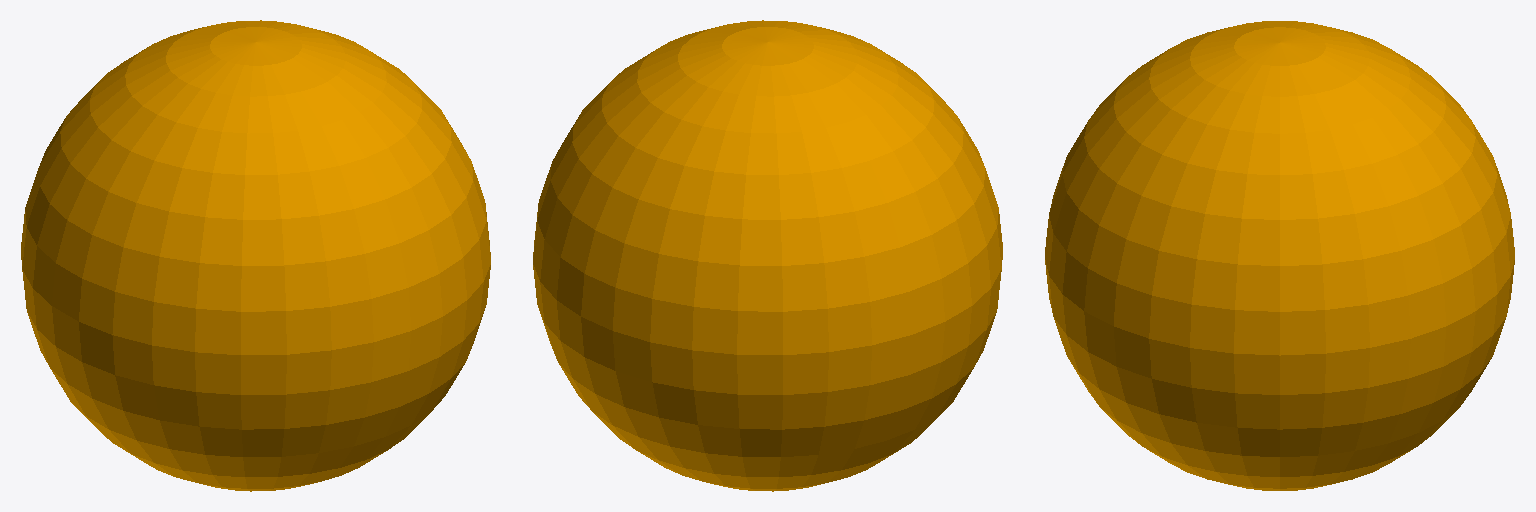
The robot description file, URDF, robot "panda":
<?xml version="1.0" ?>
<!-- =================================================================================== -->
<!-- |    This document was autogenerated by xacro from panda_arm_hand.urdf.xacro      | -->
<!-- |    EDITING THIS FILE BY HAND IS NOT RECOMMENDED                                 | -->
<!-- =================================================================================== -->
<robot name="panda" xmlns:xacro="http://www.ros.org/wiki/xacro">
  <link name="panda_link0">
  	<inertial>
      <origin rpy="0 0 0" xyz="0 0 0.05"/>
       <mass value="2.9"/>
       <inertia ixx="0.1" ixy="0" ixz="0" iyy="0.1" iyz="0" izz="0.1"/>
    </inertial>
    <visual>
      <geometry>
        <mesh filename="package://meshes/collision/link0.obj"/>
      </geometry>
      <material name="panda_white">
    		<color rgba="1. 1. 1. 1."/>
  		</material>
    </visual>
    <collision>
      <origin rpy="0 1.5707963267948966 0" xyz="-0.075 0 0.06"/>
      <geometry>
        <cylinder length="0.03" radius="0.06"/>
      </geometry>
    </collision>
    <collision>
      <origin rpy="0 0 0" xyz="-0.06 0 0.06"/>
      <geometry>
        <sphere radius="0.06"/>
      </geometry>
    </collision>
    <collision>
      <origin rpy="0 0 0" xyz="-0.09 0 0.06"/>
      <geometry>
        <sphere radius="0.06"/>
      </geometry>
    </collision>
  </link>
  <link name="panda_link1">
  	<inertial>
      <origin rpy="0 0 0" xyz="0 -0.04 -0.05"/>
       <mass value="2.7"/>
       <inertia ixx="0.1" ixy="0" ixz="0" iyy="0.1" iyz="0" izz="0.1"/>
    </inertial>
    <visual>
      <geometry>
        <mesh filename="package://meshes/visual/link1.obj"/>
      </geometry>
      <material name="panda_white"/>
    </visual>
    <collision>
      <origin rpy="0 0 0" xyz="0 0 -0.1915"/>
      <geometry>
        <cylinder length="0.2830" radius="0.06"/>
      </geometry>
    </collision>
    <collision>
      <origin rpy="0 0 0" xyz="0 0 -0.333"/>
      <geometry>
        <sphere radius="0.06"/>
      </geometry>
    </collision>
    <collision>
      <origin rpy="0 0 0" xyz="0 0 -0.05"/>
      <geometry>
        <sphere radius="0.06"/>
      </geometry>
    </collision>
  </link>
  <joint name="panda_joint1" type="revolute">
    <safety_controller k_position="100.0" k_velocity="40.0" soft_lower_limit="-2.8973" soft_upper_limit="2.8973"/>
    <origin rpy="0 0 0" xyz="0 0 0.333"/>
    <parent link="panda_link0"/>
    <child link="panda_link1"/>
    <axis xyz="0 0 1"/>
    <limit effort="87" lower="-2.9671" upper="2.9671" velocity="2.1750"/>
  </joint>
  <link name="panda_link2">
  	<inertial>
      <origin rpy="0 0 0" xyz="0 -0.04 0.06"/>
       <mass value="2.73"/>
       <inertia ixx="0.1" ixy="0" ixz="0" iyy="0.1" iyz="0" izz="0.1"/>
    </inertial>
    <visual>
      <geometry>
        <mesh filename="package://meshes/visual/link2.obj"/>
      </geometry>
      <material name="panda_white"/>
    </visual>
    <collision>
      <origin rpy="0 0 0" xyz="0 0 0"/>
      <geometry>
        <cylinder length="0.12" radius="0.06"/>
      </geometry>
    </collision>
    <collision>
      <origin rpy="0 0 0" xyz="0 0 -0.06"/>
      <geometry>
        <sphere radius="0.06"/>
      </geometry>
    </collision>
    <collision>
      <origin rpy="0 0 0" xyz="0 0 0.06"/>
      <geometry>
        <sphere radius="0.06"/>
      </geometry>
    </collision>
  </link>
  <joint name="panda_joint2" type="revolute">
    <safety_controller k_position="100.0" k_velocity="40.0" soft_lower_limit="-1.7628" soft_upper_limit="1.7628"/>
    <origin rpy="-1.57079632679 0 0" xyz="0 0 0"/>
    <parent link="panda_link1"/>
    <child link="panda_link2"/>
    <axis xyz="0 0 1"/>
    <limit effort="87" lower="-1.8326" upper="1.8326" velocity="2.1750"/>
  </joint>
  <link name="panda_link3">
	  <inertial>
      <origin rpy="0 0 0" xyz="0.01 0.01 -0.05"/>
       <mass value="2.04"/>
       <inertia ixx="0.1" ixy="0" ixz="0" iyy="0.1" iyz="0" izz="0.1"/>
    </inertial>
    <visual>
      <geometry>
        <mesh filename="package://meshes/visual/link3.obj"/>
      </geometry>
      <material name="panda_red">
    		<color rgba="1. 1. 1. 1."/>
  		</material>
    </visual>
    <collision>
      <origin rpy="0 0 0" xyz="0 0 -0.145"/>
      <geometry>
        <cylinder length="0.15" radius="0.06"/>
      </geometry>
    </collision>
    <collision>
      <origin rpy="0 0 0" xyz="0 0 -0.22"/>
      <geometry>
        <sphere radius="0.06"/>
      </geometry>
    </collision>
    <collision>
      <origin rpy="0 0 0" xyz="0 0 -0.07"/>
      <geometry>
        <sphere radius="0.06"/>
      </geometry>
    </collision>
  </link>
  <joint name="panda_joint3" type="revolute">
    <safety_controller k_position="100.0" k_velocity="40.0" soft_lower_limit="-2.8973" soft_upper_limit="2.8973"/>
    <origin rpy="1.57079632679 0 0" xyz="0 -0.316 0"/>
    <parent link="panda_link2"/>
    <child link="panda_link3"/>
    <axis xyz="0 0 1"/>
    <limit effort="87" lower="-2.9671" upper="2.9671" velocity="2.1750"/>
  </joint>
  <link name="panda_link4">
  	<inertial>
      <origin rpy="0 0 0" xyz="-0.03 0.03 0.02"/>
       <mass value="2.08"/>
       <inertia ixx="0.1" ixy="0" ixz="0" iyy="0.1" iyz="0" izz="0.1"/>
    </inertial>
    <visual>
      <geometry>
        <mesh filename="package://meshes/visual/link4.obj"/>
      </geometry>
      <material name="panda_white"/>
    </visual>
    <collision>
      <origin rpy="0 0 0" xyz="0 0 0"/>
      <geometry>
        <cylinder length="0.12" radius="0.06"/>
      </geometry>
    </collision>
    <collision>
      <origin rpy="0 0 0" xyz="0 0 0.06"/>
      <geometry>
        <sphere radius="0.06"/>
      </geometry>
    </collision>
    <collision>
      <origin rpy="0 0 0" xyz="0 0 -0.06"/>
      <geometry>
        <sphere radius="0.06"/>
      </geometry>
    </collision>
  </link>
  <joint name="panda_joint4" type="revolute">
    <safety_controller k_position="100.0" k_velocity="40.0" soft_lower_limit="-3.0718" soft_upper_limit="-0.0698"/>
    <origin rpy="1.57079632679 0 0" xyz="0.0825 0 0"/>
    <parent link="panda_link3"/>
    <child link="panda_link4"/>
    <axis xyz="0 0 1"/>
    <limit effort="87" lower="-3.1416" upper="0.0" velocity="2.1750"/>
  </joint>
  <link name="panda_link5">
  	<inertial>
      <origin rpy="0 0 0" xyz="0 0.04 -0.12"/>
       <mass value="3"/>
       <inertia ixx="0.1" ixy="0" ixz="0" iyy="0.1" iyz="0" izz="0.1"/>
    </inertial>
    <visual>
      <geometry>
        <mesh filename="package://meshes/visual/link5.obj"/>
      </geometry>
      <material name="panda_white"/>
    </visual>
    <collision>
      <origin rpy="0 0 0" xyz="0 0 -0.26"/>
      <geometry>
        <cylinder length="0.1" radius="0.06"/>
      </geometry>
    </collision>
    <collision>
      <origin rpy="0 0 0" xyz="0 0 -0.31"/>
      <geometry>
        <sphere radius="0.06"/>
      </geometry>
    </collision>
    <collision>
      <origin rpy="0 0 0" xyz="0 0 -0.21"/>
      <geometry>
        <sphere radius="0.06"/>
      </geometry>
    </collision>
    <collision>
      <origin rpy="0 0 0" xyz="0 0.08 -0.13"/>
      <geometry>
        <cylinder length="0.14" radius="0.025"/>
      </geometry>
    </collision>
    <collision>
      <origin rpy="0 0 0" xyz="0 0.08 -0.06"/>
      <geometry>
        <sphere radius="0.025"/>
      </geometry>
    </collision>
    <collision>
      <origin rpy="0 0 0" xyz="0 0.08 -0.20"/>
      <geometry>
        <sphere radius="0.025"/>
      </geometry>
    </collision>
  </link>
  <joint name="panda_joint5" type="revolute">
    <safety_controller k_position="100.0" k_velocity="40.0" soft_lower_limit="-2.8973" soft_upper_limit="2.8973"/>
    <origin rpy="-1.57079632679 0 0" xyz="-0.0825 0.384 0"/>
    <parent link="panda_link4"/>
    <child link="panda_link5"/>
    <axis xyz="0 0 1"/>
    <limit effort="12" lower="-2.9671" upper="2.9671" velocity="2.6100"/>
  </joint>
  <link name="panda_link6">
  	<inertial>
      <origin rpy="0 0 0" xyz="0.04 0 0"/>
       <mass value="1.3"/>
       <inertia ixx="0.1" ixy="0" ixz="0" iyy="0.1" iyz="0" izz="0.1"/>
    </inertial>
    <visual>
      <geometry>
        <mesh filename="package://meshes/visual/link6.obj"/>
      </geometry>
      <material name="panda_white"/>
    </visual>
    <collision>
      <origin rpy="0 0 0" xyz="0 0 -0.03"/>
      <geometry>
        <cylinder length="0.08" radius="0.05"/>
      </geometry>
    </collision>
    <collision>
      <origin rpy="0 0 0" xyz="0 0 0.01"/>
      <geometry>
        <sphere radius="0.05"/>
      </geometry>
    </collision>
    <collision>
      <origin rpy="0 0 0" xyz="0 0 -0.07"/>
      <geometry>
        <sphere radius="0.05"/>
      </geometry>
    </collision>
  </link>
  <joint name="panda_joint6" type="revolute">
    <safety_controller k_position="100.0" k_velocity="40.0" soft_lower_limit="-0.0175" soft_upper_limit="3.7525"/>
    <origin rpy="1.57079632679 0 0" xyz="0 0 0"/>
    <parent link="panda_link5"/>
    <child link="panda_link6"/>
    <axis xyz="0 0 1"/>
    <limit effort="12" lower="-0.0873" upper="3.8223" velocity="2.6100"/>
  </joint>
  <link name="panda_link7">
  	<inertial>
      <origin rpy="0 0 0" xyz="0 0 0.08"/>
       <mass value=".2"/>
       <inertia ixx="0.1" ixy="0" ixz="0" iyy="0.1" iyz="0" izz="0.1"/>
    </inertial>
    <visual>
      <geometry>
        <mesh filename="package://meshes/collision/link7.obj"/>
      </geometry>
      <material name="panda_white"/>
    </visual>
    <collision>
      <origin rpy="0 0 0" xyz="0 0 0.01"/>
      <geometry>
        <cylinder length="0.14" radius="0.04"/>
      </geometry>
    </collision>
    <collision>
      <origin rpy="0 0 0" xyz="0 0 0.08"/>
      <geometry>
        <sphere radius="0.025"/>
      </geometry>
    </collision>
    <collision>
      <origin rpy="0 0 0" xyz="0 0 -0.06"/>
      <geometry>
        <sphere radius="0.04"/>
      </geometry>
    </collision>
  </link>
  <joint name="panda_joint7" type="revolute">
    <safety_controller k_position="100.0" k_velocity="40.0" soft_lower_limit="-2.8973" soft_upper_limit="2.8973"/>
    <origin rpy="1.57079632679 0 0" xyz="0.088 0 0"/>
    <parent link="panda_link6"/>
    <child link="panda_link7"/>
    <axis xyz="0 0 1"/>
    <limit effort="12" lower="-2.9671" upper="2.9671" velocity="2.6100"/>
  </joint>
  <link name="panda_link8">
  <visual>
        <geometry>
        <sphere radius="0.03"/>
      </geometry>
  </visual>
  	 <inertial>
      <origin rpy="0 0 0" xyz="0 0 0"/>
       <mass value="0.0"/>
       <inertia ixx="0.1" ixy="0" ixz="0" iyy="0.1" iyz="0" izz="0.1"/>
    </inertial>
        <collision>
      <origin rpy="3.141592653589793 1.5707963267948966 1.5707963267948966" xyz="0.0424 0.0424 -0.0250"/>
      <geometry>
        <cylinder length="0.01" radius="0.03"/>
      </geometry>
    </collision>
    <collision>
      <origin rpy="0 0 0" xyz="0.0424 0.0424 -0.02"/>
      <geometry>
        <sphere radius="0.03"/>
      </geometry>
    </collision>
    <collision>
      <origin rpy="0 0 0" xyz="0.0424 0.0424 -0.03"/>
      <geometry>
        <sphere radius="0.03"/>
      </geometry>
    </collision>
  </link>
  <joint name="panda_joint8" type="fixed">
    <origin rpy="0 0 0" xyz="0 0 0.107"/>
    <parent link="panda_link7"/>
    <child link="panda_link8"/>
    <axis xyz="0 0 0"/>
  </joint>
  <joint name="panda_hand_joint" type="fixed">
    <parent link="panda_link8"/>
    <child link="panda_hand"/>
    <origin rpy="0 0 -0.785398163397" xyz="0 0 0"/>
  </joint>

  <link name="panda_hand">
    <inertial>
      <origin rpy="0 0 0" xyz="0 0 0.04"/>
      <mass value=".81"/>
      <inertia ixx="0.1" ixy="0" ixz="0" iyy="0.1" iyz="0" izz="0.1"/>
    </inertial>
    <visual>
      <geometry>
        <mesh filename="package://meshes/visual/hand.obj"/>
      </geometry>
      <material name="panda_white"/>
    </visual>
  </link>

  <material name="transparent">
    <color rgba="0 0 0 0"/>
  </material>

  <link name="panda_hand_collision_1">
    <inertial>
      <mass value="1e-6"/>
      <inertia ixx="1e-9" ixy="0" ixz="0" iyy="1e-9" iyz="0" izz="1e-9"/>
    </inertial>
    <visual>
      <geometry>
        <sphere radius="0.0001"/>
      </geometry>
      <material name="transparent"/>
    </visual>
    <collision>
      <origin rpy="0 1.5707963267948966 1.5707963267948966" xyz="0 0 0.04"/>
      <geometry>
        <cylinder length="0.1" radius="0.04"/>
      </geometry>
    </collision>
  </link>

  <link name="panda_hand_collision_2">
    <inertial>
      <mass value="1e-6"/>
      <inertia ixx="1e-9" ixy="0" ixz="0" iyy="1e-9" iyz="0" izz="1e-9"/>
    </inertial>
    <visual>
      <geometry>
        <box size="0.0001 0.0001 0.0001"/>
      </geometry>
      <material name="transparent"/>
    </visual>
    <collision>
      <origin rpy="0 0 0" xyz="0 -0.05 0.04"/>
      <geometry>
        <sphere radius="0.04"/>
      </geometry>
    </collision>
  </link>

  <link name="panda_hand_collision_3">
    <inertial>
      <mass value="1e-6"/>
      <inertia ixx="1e-9" ixy="0" ixz="0" iyy="1e-9" iyz="0" izz="1e-9"/>
    </inertial>
    <visual>
      <geometry>
        <cylinder radius="0.0001" length="0.0001"/>
      </geometry>
      <material name="transparent"/>
    </visual>
    <collision>
      <origin rpy="0 0 0" xyz="0 0.05 0.04"/>
      <geometry>
        <sphere radius="0.04"/>
      </geometry>
    </collision>
  </link>

  <link name="panda_hand_collision_4">
    <inertial>
      <mass value="1e-6"/>
      <inertia ixx="1e-9" ixy="0" ixz="0" iyy="1e-9" iyz="0" izz="1e-9"/>
    </inertial>
    <visual>
      <geometry>
        <sphere radius="0.0001"/>
      </geometry>
      <material name="transparent"/>
    </visual>
    <collision>
      <origin rpy="0 1.5707963267948966 1.5707963267948966" xyz="0 0 0.1"/>
      <geometry>
        <cylinder length="0.1" radius="0.02"/>
      </geometry>
    </collision>
  </link>

  <link name="panda_hand_collision_5">
    <inertial>
      <mass value="1e-6"/>
      <inertia ixx="1e-9" ixy="0" ixz="0" iyy="1e-9" iyz="0" izz="1e-9"/>
    </inertial>
    <visual>
      <geometry>
        <box size="0.0001 0.0001 0.0001"/>
      </geometry>
      <material name="transparent"/>
    </visual>
    <collision>
      <origin rpy="0 0 0" xyz="0 -0.05 0.1"/>
      <geometry>
        <sphere radius="0.02"/>
      </geometry>
    </collision>
  </link>

  <link name="panda_hand_collision_6">
    <inertial>
      <mass value="1e-6"/>
      <inertia ixx="1e-9" ixy="0" ixz="0" iyy="1e-9" iyz="0" izz="1e-9"/>
    </inertial>
    <visual>
      <geometry>
        <cylinder radius="0.0001" length="0.0001"/>
      </geometry>
      <material name="transparent"/>
    </visual>
    <collision>
      <origin rpy="0 0 0" xyz="0 0.05 0.1"/>
      <geometry>
        <sphere radius="0.02"/>
      </geometry>
    </collision>
  </link>

  <!-- Joint definitions remain the same -->
  <joint name="panda_hand_collision_1_joint" type="fixed">
    <parent link="panda_hand"/>
    <child link="panda_hand_collision_1"/>
    <origin rpy="0 0 0" xyz="0 0 0"/>
  </joint>

  <joint name="panda_hand_collision_2_joint" type="fixed">
    <parent link="panda_hand"/>
    <child link="panda_hand_collision_2"/>
    <origin rpy="0 0 0" xyz="0 0 0"/>
  </joint>

  <joint name="panda_hand_collision_3_joint" type="fixed">
    <parent link="panda_hand"/>
    <child link="panda_hand_collision_3"/>
    <origin rpy="0 0 0" xyz="0 0 0"/>
  </joint>

  <joint name="panda_hand_collision_4_joint" type="fixed">
    <parent link="panda_hand"/>
    <child link="panda_hand_collision_4"/>
    <origin rpy="0 0 0" xyz="0 0 0"/>
  </joint>

  <joint name="panda_hand_collision_5_joint" type="fixed">
    <parent link="panda_hand"/>
    <child link="panda_hand_collision_5"/>
    <origin rpy="0 0 0" xyz="0 0 0"/>
  </joint>

  <joint name="panda_hand_collision_6_joint" type="fixed">
    <parent link="panda_hand"/>
    <child link="panda_hand_collision_6"/>
    <origin rpy="0 0 0" xyz="0 0 0"/>
  </joint>

  <link name="panda_leftfinger">
  	<inertial>
      <origin rpy="0 0 0" xyz="0 0.01 0.02"/>
       <mass value="0.1"/>
       <inertia ixx="0.1" ixy="0" ixz="0" iyy="0.1" iyz="0" izz="0.1"/>
    </inertial>
    <visual>
      <geometry>
        <mesh filename="package://meshes/visual/finger.obj"/>
      </geometry>
      <material name="panda_white"/>
    </visual>
  </link>
  <link name="panda_rightfinger">
  	<inertial>
      <origin rpy="0 0 0" xyz="0 -0.01 0.02"/>
       <mass value="0.1"/>
       <inertia ixx="0.1" ixy="0" ixz="0" iyy="0.1" iyz="0" izz="0.1"/>
    </inertial>
    <visual>
      <origin rpy="0 0 3.14159265359" xyz="0 0 0"/>
      <geometry>
        <mesh filename="package://meshes/visual/finger.obj"/>
      </geometry>
      <material name="panda_white"/>
    </visual>
  </link>
  <joint name="panda_finger_joint1" type="fixed">
    <parent link="panda_hand"/>
    <child link="panda_leftfinger"/>
    <origin rpy="0 0 0" xyz="0 0 0.0584"/>
    <axis xyz="0 1 0"/>
    <limit effort="20" lower="0.0" upper="0.04" velocity="0.2"/>
  </joint>
  <joint name="panda_finger_joint2" type="fixed">
    <parent link="panda_hand"/>
    <child link="panda_rightfinger"/>
    <origin rpy="0 0 0" xyz="0 0 0.0584"/>
    <axis xyz="0 -1 0"/>
    <limit effort="20" lower="0.0" upper="0.04" velocity="0.2"/>
    <mimic joint="panda_finger_joint1"/>
  </joint>
   <link name="panda_grasptarget">
 <inertial>
      <origin rpy="0 0 0" xyz="0 0 0"/>
       <mass value="0.0"/>
       <inertia ixx="0.1" ixy="0" ixz="0" iyy="0.1" iyz="0" izz="0.1"/>
    </inertial>
   </link>
   <joint name="panda_grasptarget_hand" type="fixed">
    <parent link="panda_hand"/>
    <child link="panda_grasptarget"/>
    <origin rpy="0 0 0" xyz="0 0 0.105"/>
  </joint>

</robot>

--- Render facts (derived) ---
Views: 3 orthographic renders of the robot side by side, from view 1: azimuth 30°, elevation 25°; view 2: azimuth 150°, elevation 25°; view 3: azimuth 270°, elevation 25°.
Model panda with 19 links and 18 joints (7 revolute, 11 fixed), rooted at panda_link0, posed every joint at zero.
Links seen in each view (by area): view 1: panda_link8; view 2: panda_link8; view 3: panda_link8.
Link boxes in pixels (x1,y1,x2,y2): panda_link8: (21,20,490,491); panda_link8: (533,20,1002,491); panda_link8: (1045,21,1514,490).
Bounding box of the posed robot: 0.06 × 0.06 × 0.06 m (x, y, z).
Meshes: 10 distinct files referenced, 0 mesh visuals loaded (none loaded); not drawn: 11 (reference not matched to a file when rendering).